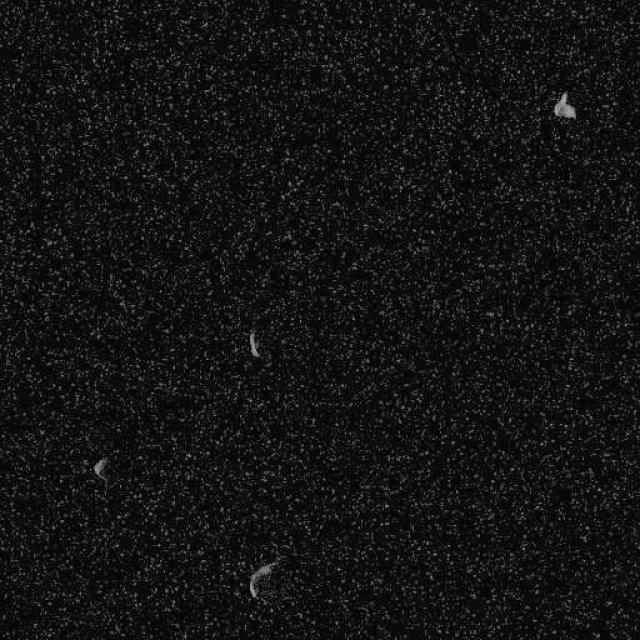D2: (248, 556, 282, 599), (552, 90, 576, 120), (91, 457, 110, 482), (246, 330, 262, 359)
